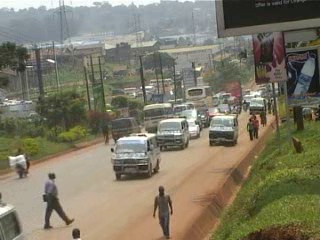Car: (178, 107, 204, 131), (181, 115, 203, 139), (194, 102, 208, 129), (218, 99, 231, 117), (208, 104, 220, 123)
Motorcycle: (6, 148, 35, 178), (241, 96, 249, 115)
